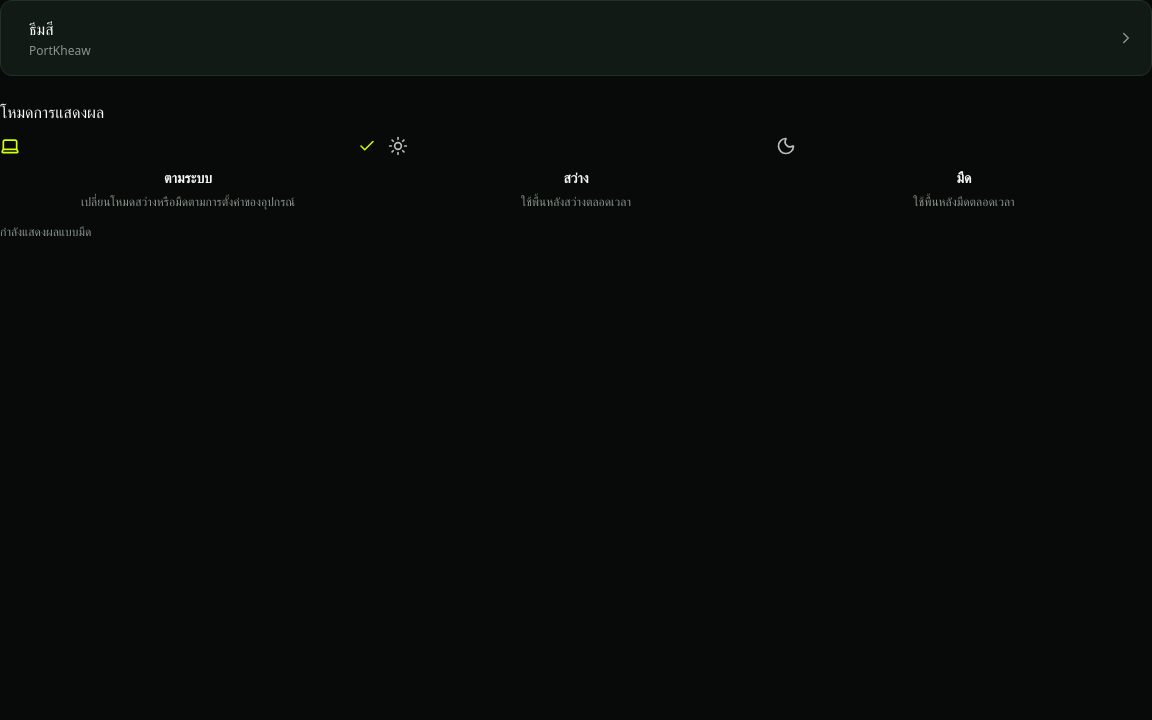
a reader without the paid plan › shows the paid themes as locked, badged with the plan they need
The width and height of the screenshot is (1152, 720).
Click the button with test id "theme-row": point(60, 50) [0,0,1151,76]
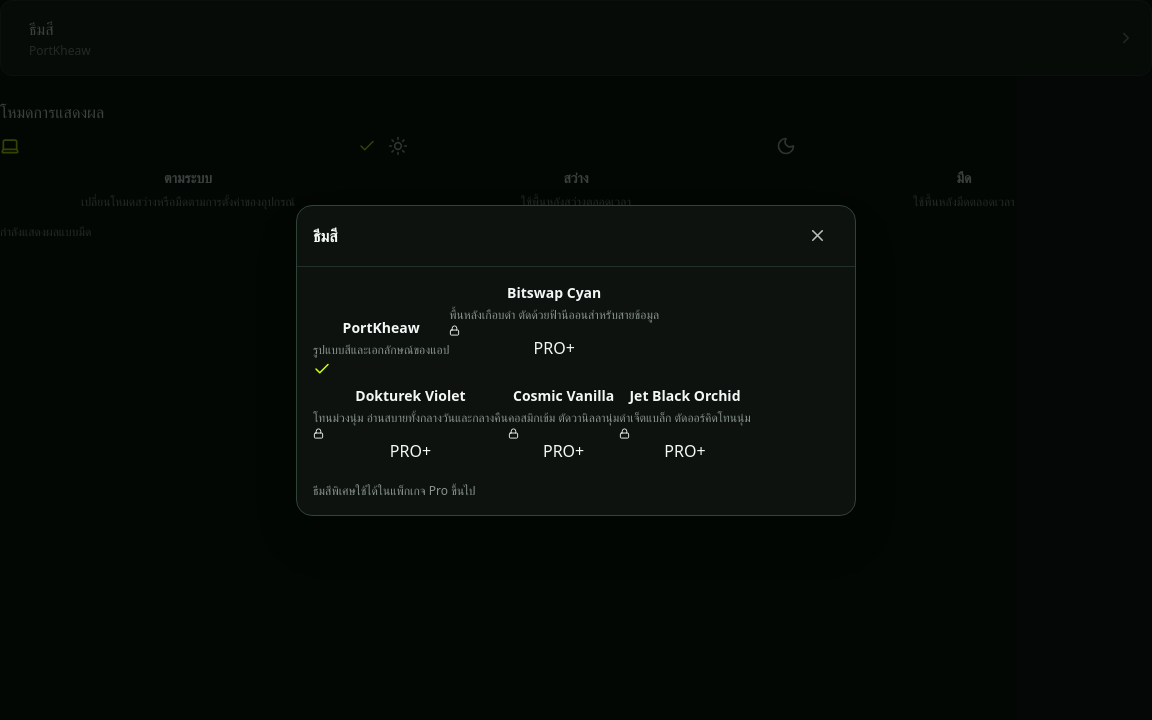
Expected: the 4th icon with class "lucide-lock" is shown, [619,428,630,438]
